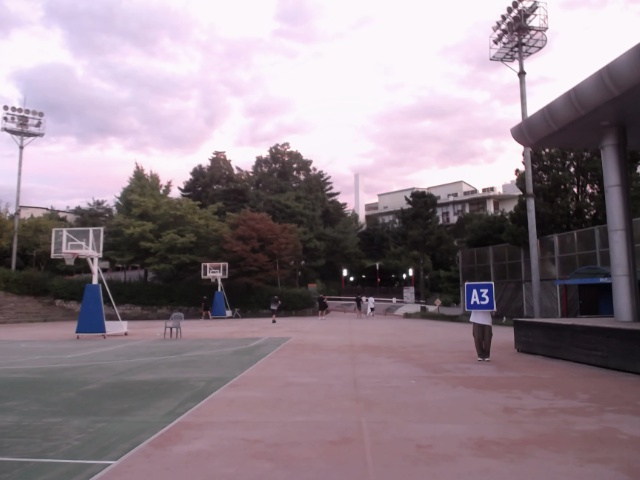delivery_a3: (464, 282, 495, 311)
